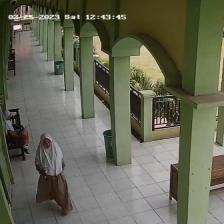HijabSyar-i: (33, 129, 67, 175)
